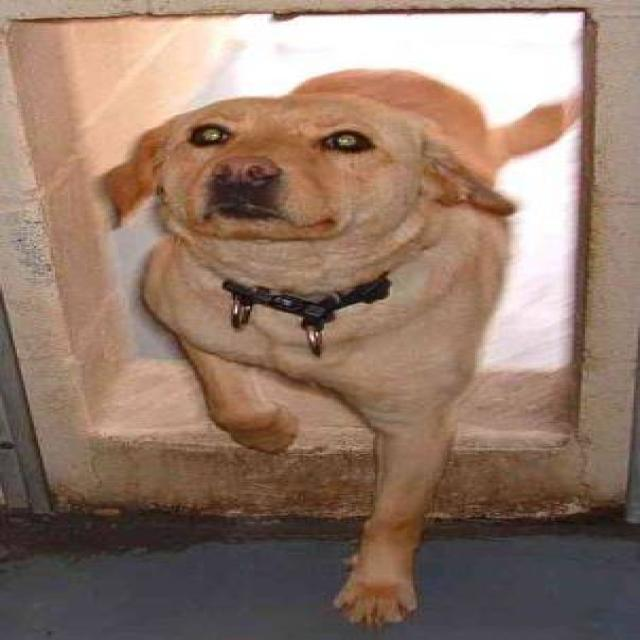Dog: (100, 90, 515, 249)
